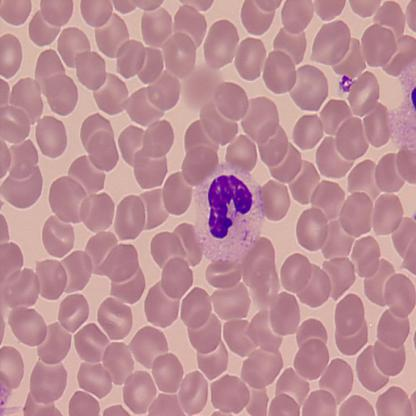Band Neutrophil: (190, 161, 264, 267)
